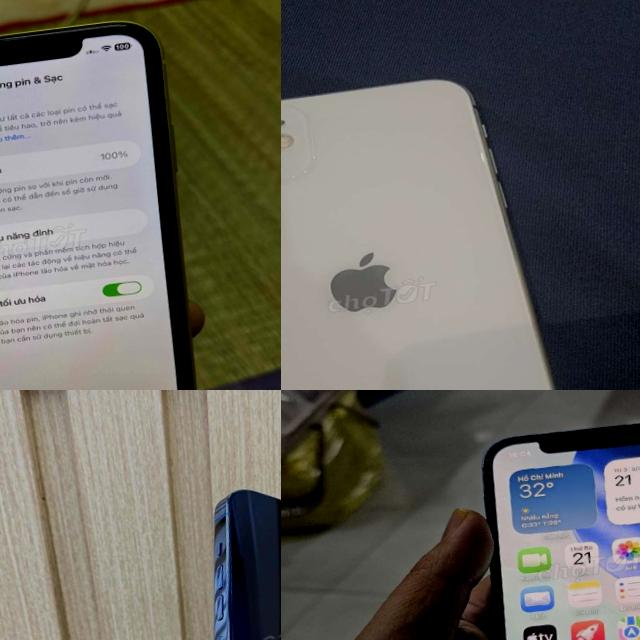gen_11: (281, 58, 601, 390), (0, 7, 213, 390)
gen_12_13: (467, 403, 640, 640), (163, 464, 281, 640)
